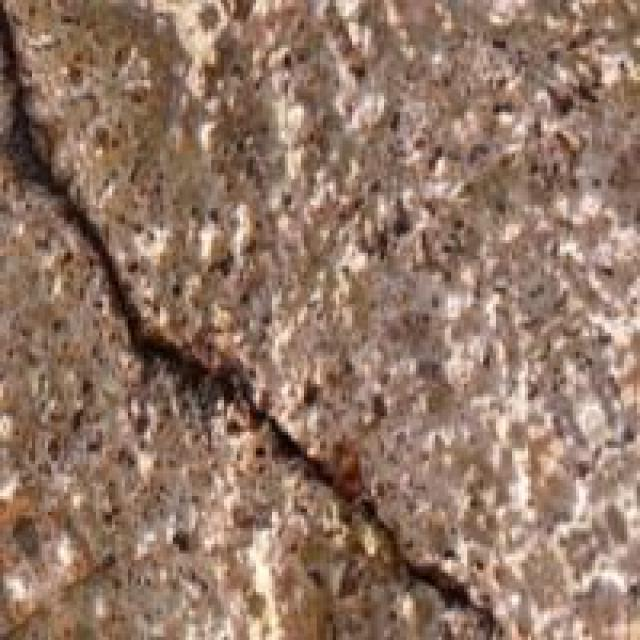Crack: (0, 3, 480, 637)
